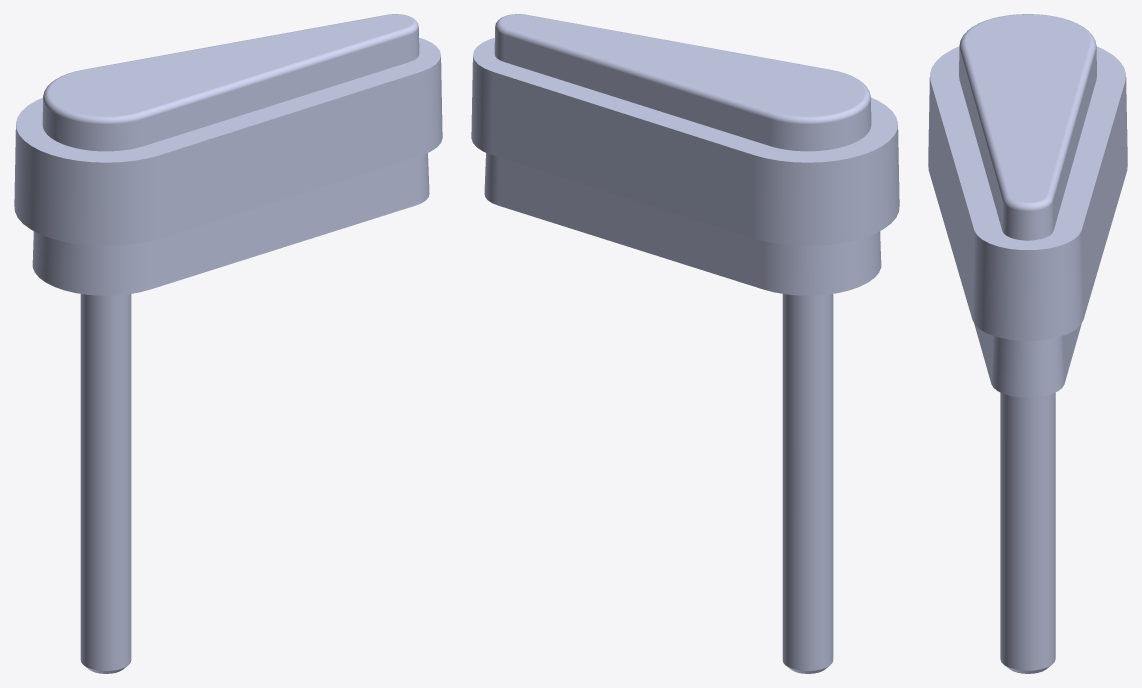
File: Flipper Bat 2.0'.fbx
The picture shows the model from 3 angles, left to right: view 1: azimuth 30°, elevation 25°; view 2: azimuth 150°, elevation 25°; view 3: azimuth 270°, elevation 25°; orthographic projection. The views are drawn at different scales.
Visible parts, largest first — view 1: Flipper Bat 2 inch, Flipper Rubber 2inch, Flipper Shaft; view 2: Flipper Bat 2 inch, Flipper Rubber 2inch, Flipper Shaft; view 3: Flipper Rubber 2inch, Flipper Bat 2 inch, Flipper Shaft.
Part boxes in pixels (<box>): Flipper Bat 2 inch: <box>32,14,429,295</box>; Flipper Rubber 2inch: <box>14,38,442,245</box>; Flipper Shaft: <box>80,294,131,673</box>; Flipper Bat 2 inch: <box>484,14,881,295</box>; Flipper Rubber 2inch: <box>471,38,899,245</box>; Flipper Shaft: <box>782,294,833,673</box>; Flipper Rubber 2inch: <box>928,46,1127,340</box>; Flipper Bat 2 inch: <box>959,14,1096,397</box>; Flipper Shaft: <box>1000,392,1055,673</box>.
Size of the model in its own units: 5.91 by 7.92 by 2.3.
